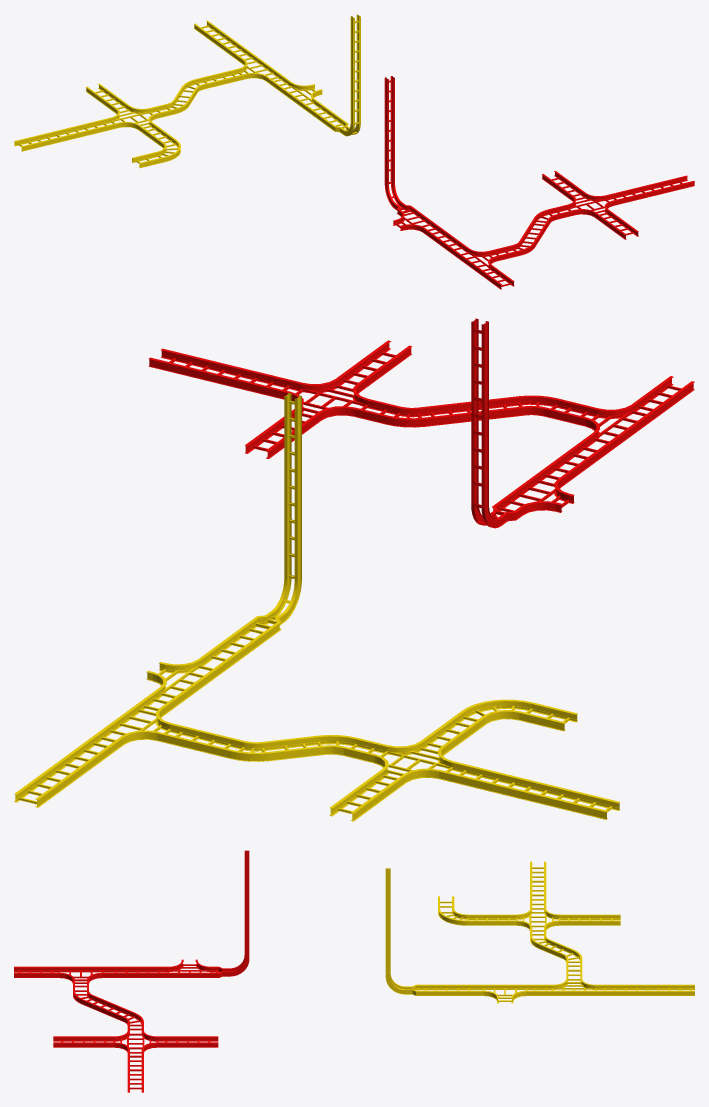
The model's file is B-LineLayout.FBX.
The picture shows the model from 3 angles, top to bottom: view 1: azimuth 30°, elevation 25°; view 2: azimuth 150°, elevation 25°; view 3: azimuth 270°, elevation 25°; orthographic projection. The views are drawn at different scales.
Parts seen in each view (by area): view 1: B-LineLayoutB, B-LineLayoutA; view 2: B-LineLayoutB, B-LineLayoutA; view 3: B-LineLayoutB, B-LineLayoutA.
Boxes of the visible parts, x1,y1,x2,y2 form: B-LineLayoutB: (14, 14, 360, 168); B-LineLayoutA: (384, 76, 694, 289); B-LineLayoutB: (14, 392, 619, 821); B-LineLayoutA: (148, 318, 694, 528); B-LineLayoutB: (385, 861, 694, 1003); B-LineLayoutA: (14, 850, 249, 1092).
Size of the model in its own units: 448 by 113 by 570.
